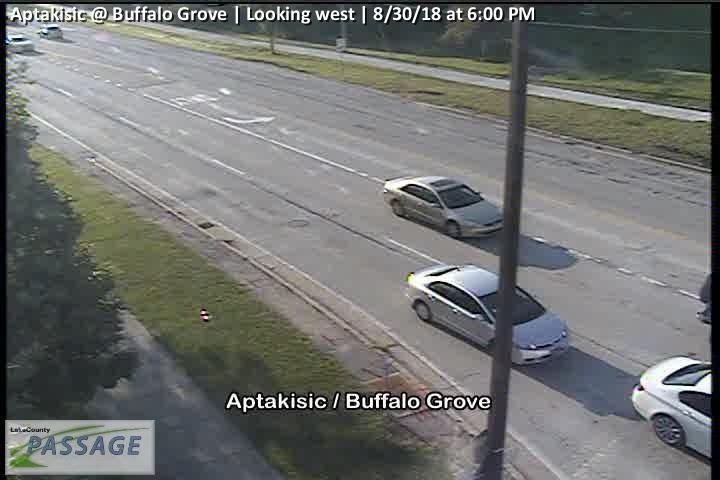Sedan: (406, 264, 570, 366), (632, 356, 713, 458), (383, 174, 505, 238), (9, 35, 35, 52), (37, 23, 62, 38)
